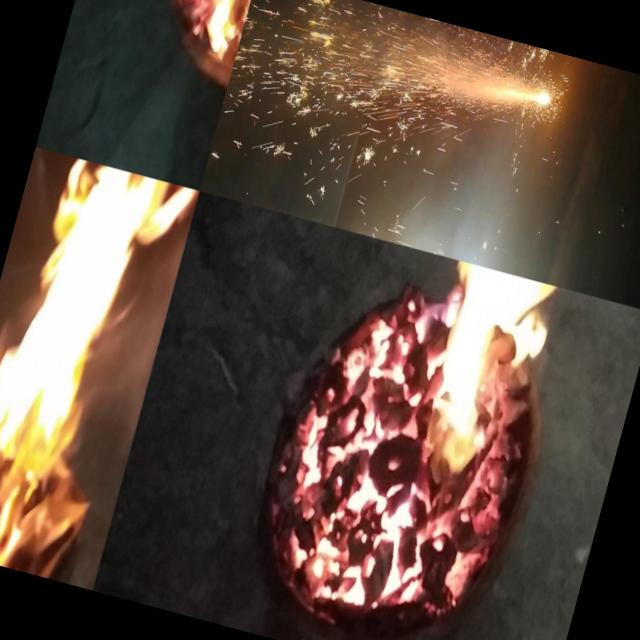fire: (350, 256, 585, 640), (0, 147, 199, 590), (235, 266, 434, 626), (148, 0, 258, 62), (314, 178, 366, 232)
